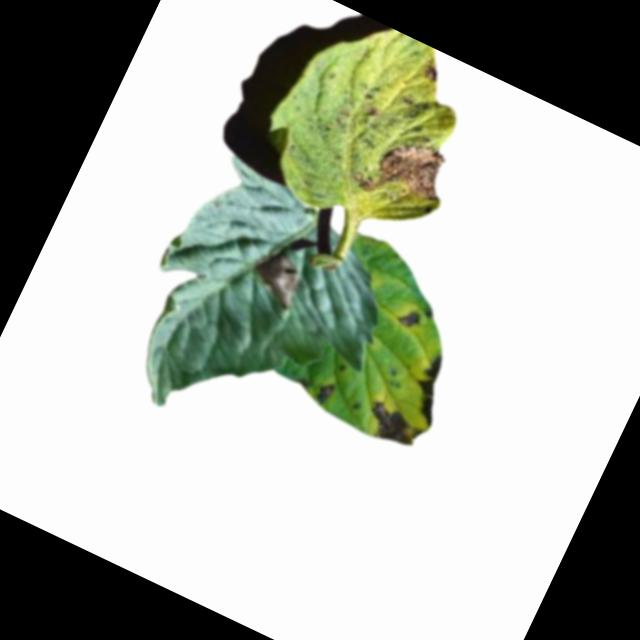Early_blight: (348, 122, 461, 224), (244, 244, 313, 313), (402, 352, 461, 429), (358, 397, 431, 457), (390, 305, 424, 335), (417, 59, 445, 90), (311, 378, 338, 408)
